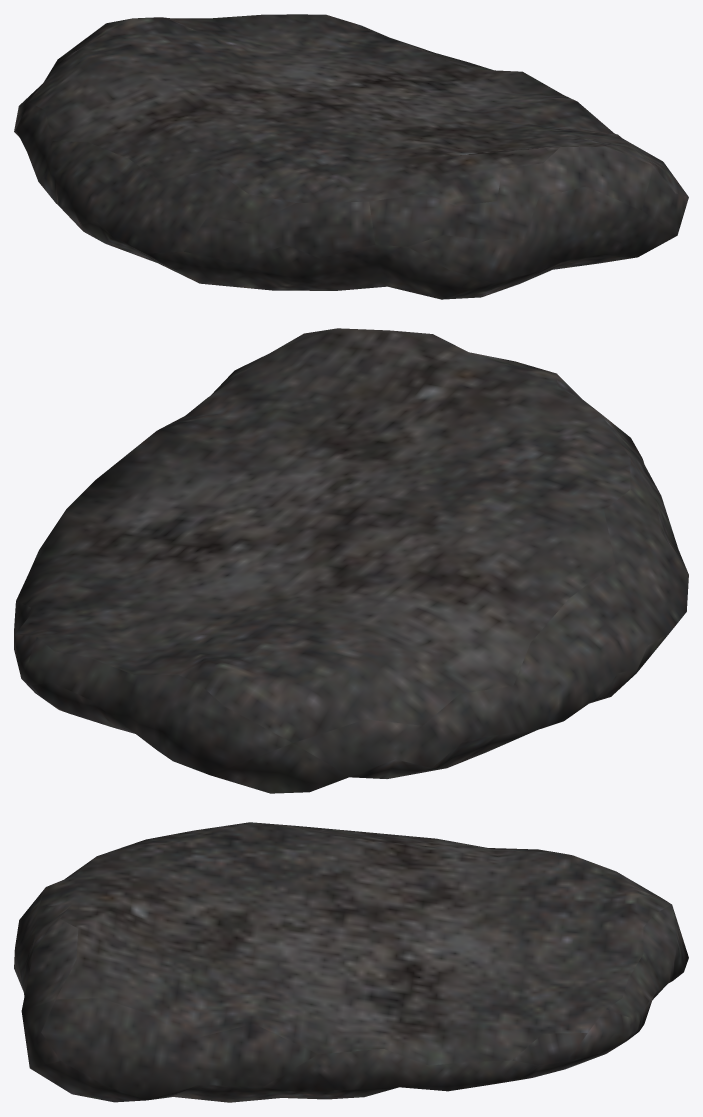
The model's file is rock 9.glb.
The picture shows the model from 3 angles, top to bottom: view 1: azimuth 30°, elevation 25°; view 2: azimuth 150°, elevation 25°; view 3: azimuth 270°, elevation 25°; orthographic projection. The views are drawn at different scales.
Parts seen in each view (by area): view 1: AR09; view 2: AR09; view 3: AR09.
Part boxes in pixels (x1,y1,x2,y2): AR09: [14, 14, 688, 299]; AR09: [14, 328, 688, 793]; AR09: [14, 822, 688, 1102].
Bounding box in the file's own units: 11.55 × 2.92 × 14.24.
1 material, 1 textured.
